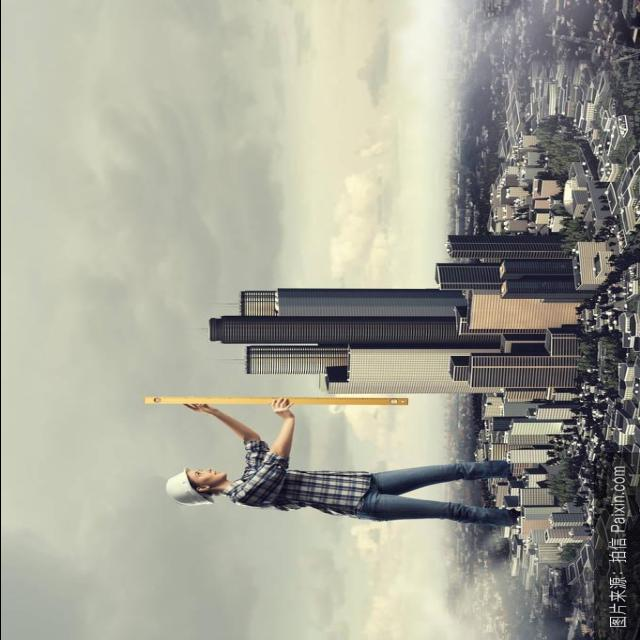helmet: (150, 462, 212, 511)
